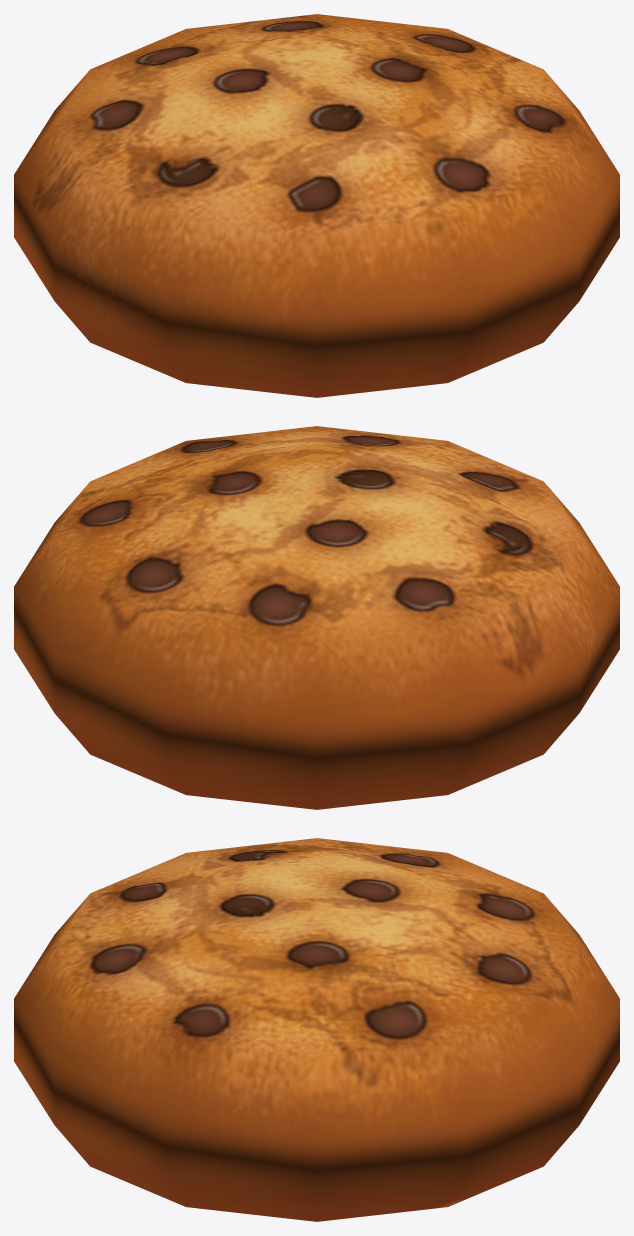
Rendered from 010-Cookies_03.FBX.
The picture shows the model from 3 angles, top to bottom: view 1: azimuth 30°, elevation 25°; view 2: azimuth 150°, elevation 25°; view 3: azimuth 270°, elevation 25°; orthographic projection.
Parts seen in each view (by area): view 1: 010-Cookies_03; view 2: 010-Cookies_03; view 3: 010-Cookies_03.
Boxes of the visible parts, left/top/right/bottom form: 010-Cookies_03: left=14, top=14, right=619, bottom=397; 010-Cookies_03: left=14, top=426, right=619, bottom=809; 010-Cookies_03: left=14, top=838, right=619, bottom=1221.
Bounding box in the file's own units: 16.04 × 6.24 × 16.04.
